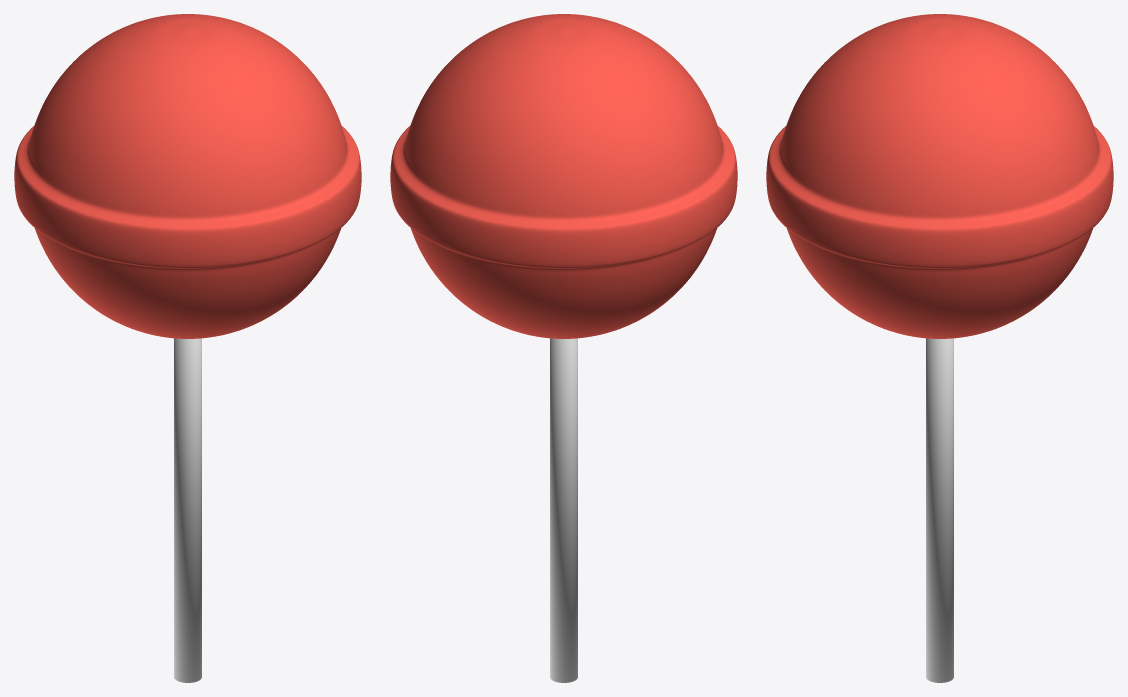
File: Lollipop_Sphere.fbx
The picture shows the model from 3 angles, left to right: view 1: azimuth 30°, elevation 25°; view 2: azimuth 150°, elevation 25°; view 3: azimuth 270°, elevation 25°; orthographic projection.
Parts seen in each view (by area): view 1: Lollipop, Stick; view 2: Lollipop, Stick; view 3: Lollipop, Stick.
Part boxes in pixels (x1,y1,x2,y2): Lollipop: (14, 14, 361, 338); Stick: (174, 338, 201, 682); Lollipop: (390, 14, 737, 338); Stick: (550, 338, 577, 682); Lollipop: (766, 14, 1113, 338); Stick: (926, 338, 953, 682).
Bounding box in the file's own units: 212 × 437 × 212.
